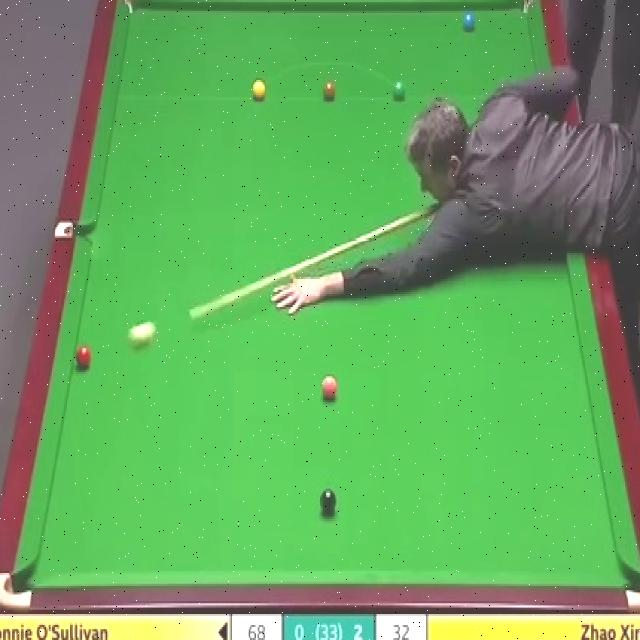black-ball: (319, 488, 337, 516)
blue-ball: (461, 12, 476, 30)
brown-ball: (321, 78, 337, 102)
green-ball: (390, 80, 406, 102)
pink-ball: (320, 375, 338, 400)
red-ball: (73, 342, 93, 370)
white-ball: (129, 318, 154, 349)
yellow-ball: (251, 78, 266, 100)
